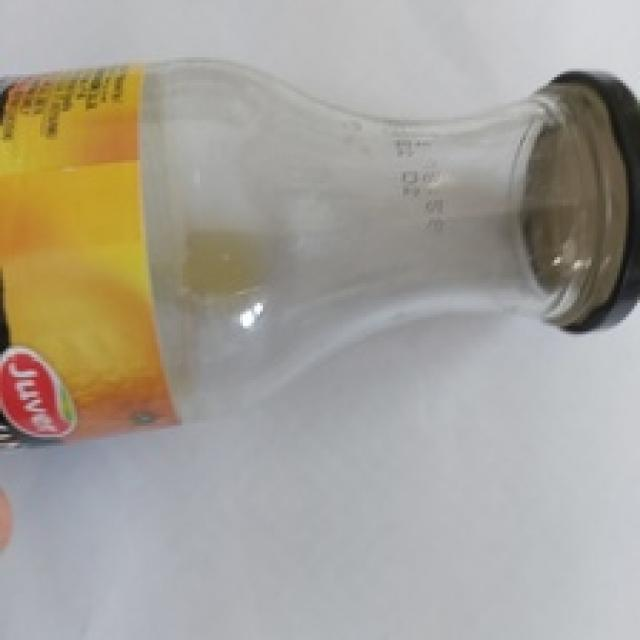garbage: (0, 47, 640, 456)
